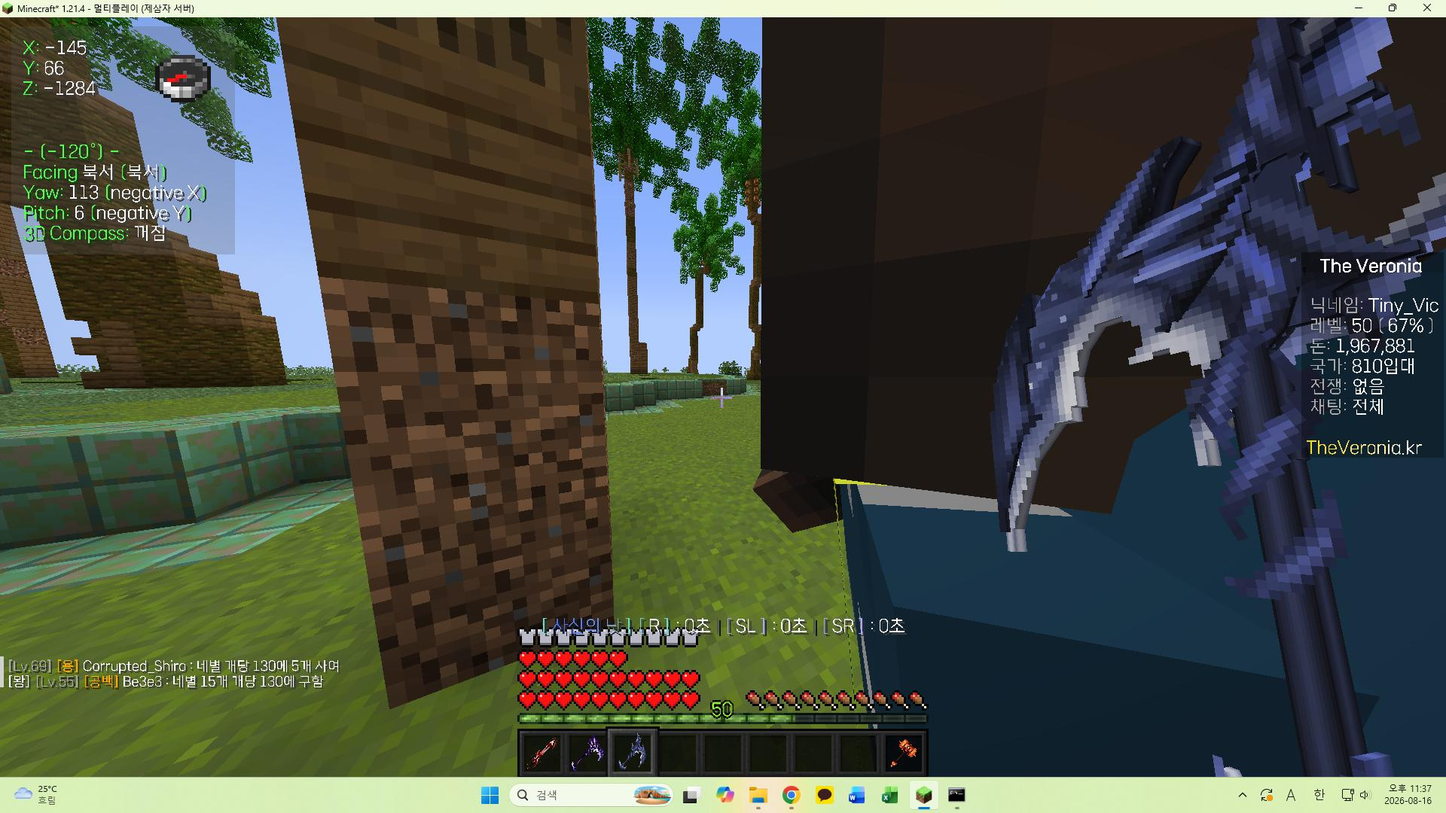Guardian: (761, 18, 1257, 500), (1044, 328, 1197, 507), (1307, 130, 1445, 237)
